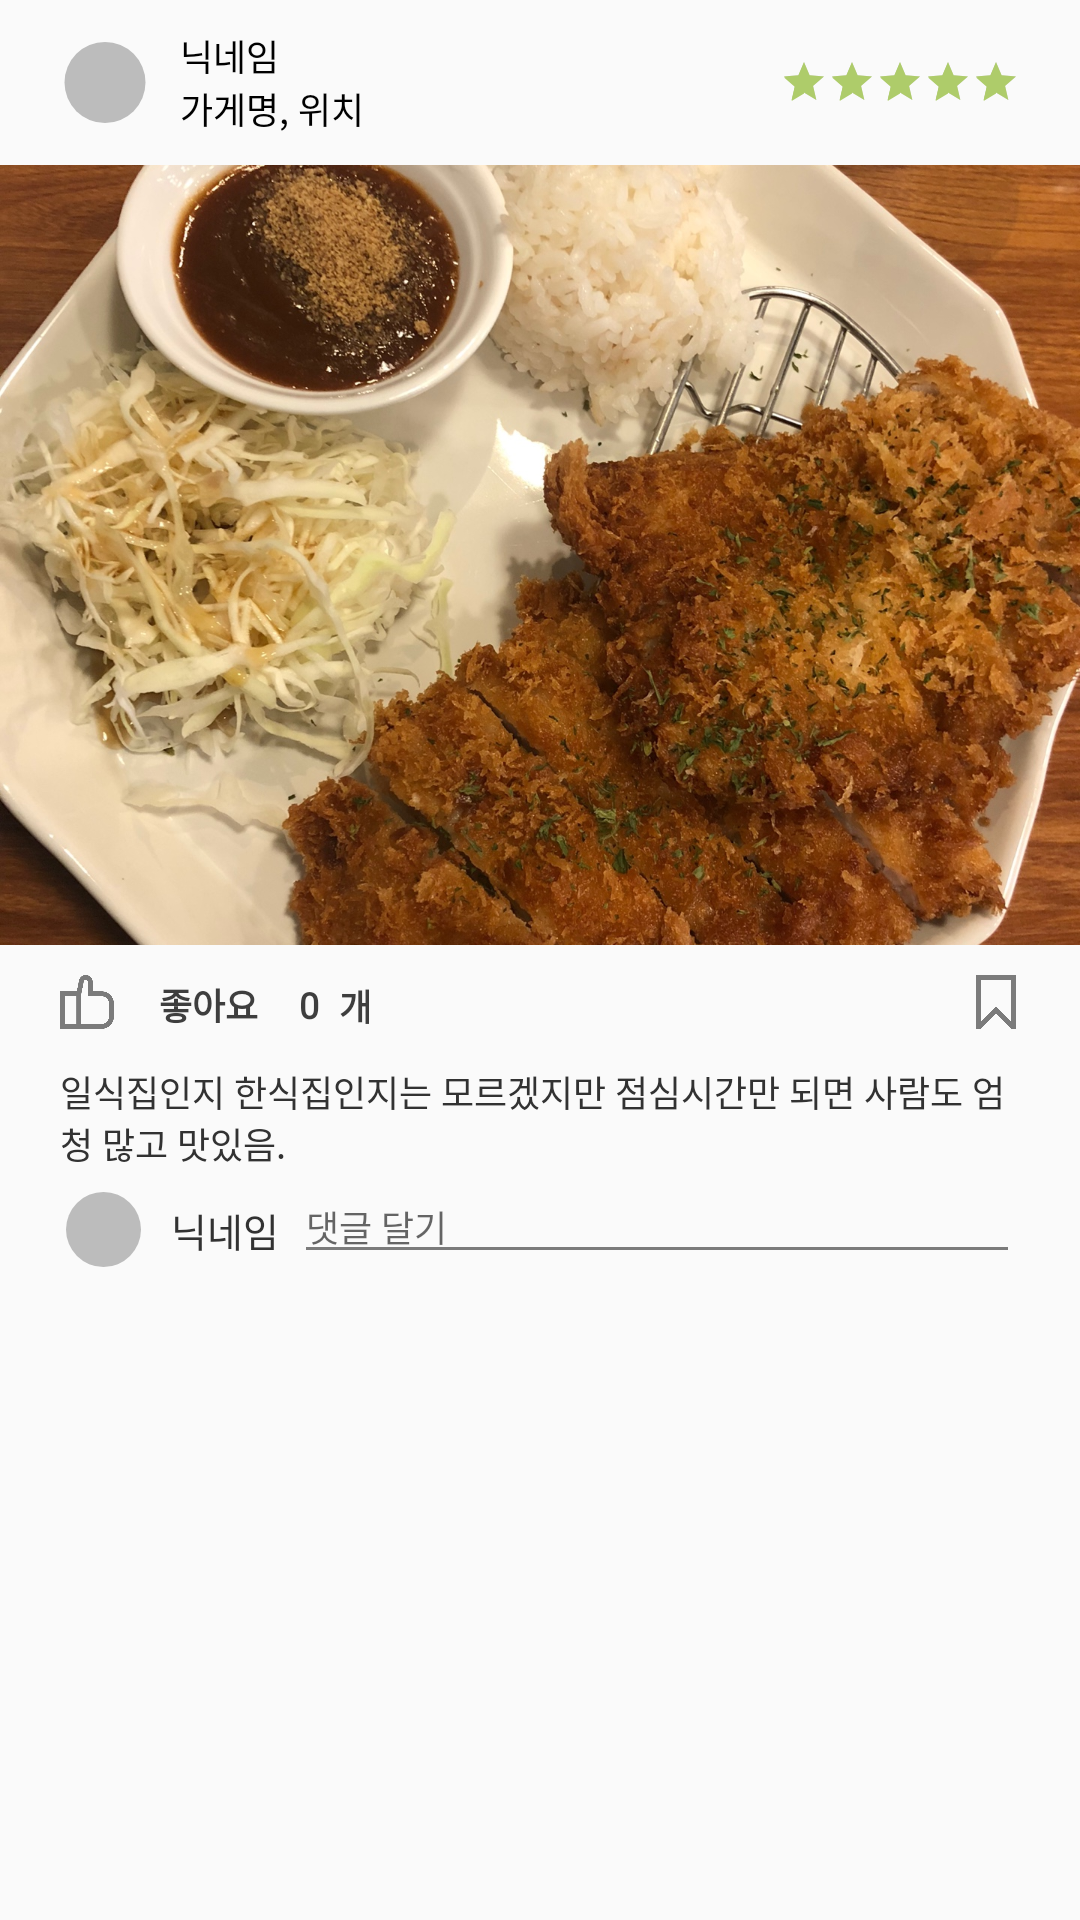

Icons on this 1080*1920 Android screen, each with the point to tap as (x=x, y=y):
like: (x=87, y=1002)
save: (x=996, y=1002)
